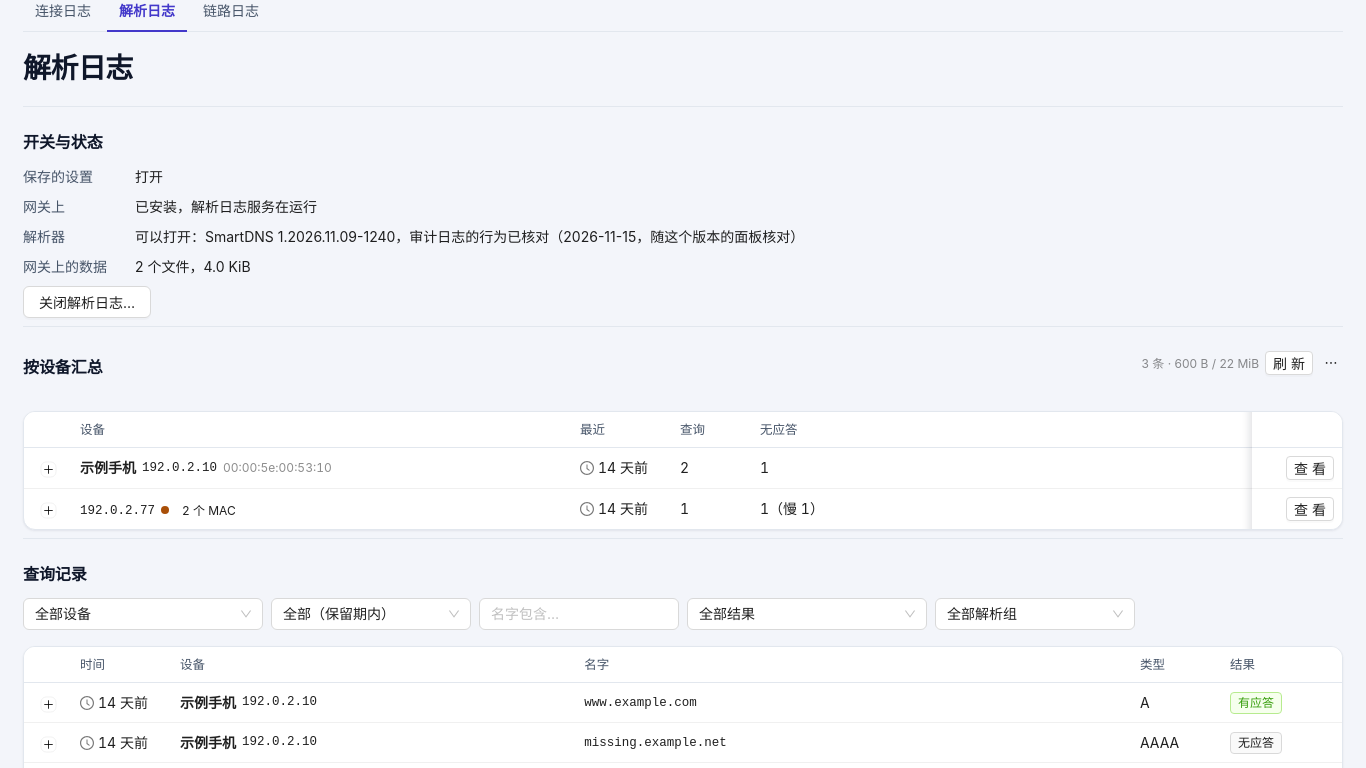
it: DNS query log page › disabling says that the records are deleted after the install succeeded, and are kept until then
Click the button "关闭解析日志…".
click(87, 302)  # box [23,286,151,318]
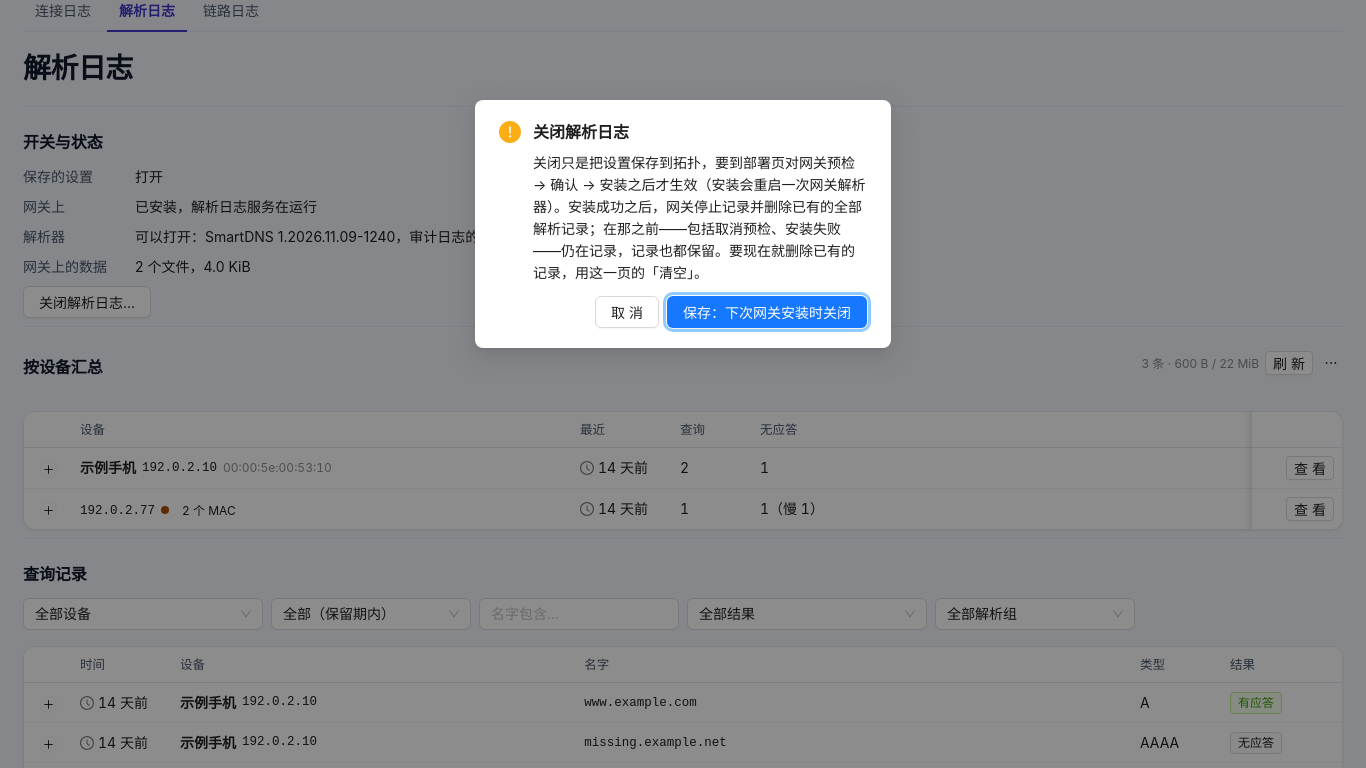
Expected: the text with test id "dns-log-disable-confirm" shows "预检 → 确认 → 安装之后才生效", [533,154,866,281]
Expected: the text with test id "dns-log-disable-confirm" shows "安装成功之后，网关停止记录并删除已有的全部解析记录", [533,154,866,281]
Expected: the text with test id "dns-log-disable-confirm" shows "取消预检、安装失败——仍在记录，记录也都保留", [533,154,866,281]
Click the button "保存：下次网关安装时关闭".
click(767, 312)  # box [667,296,867,328]
(page scrolled)
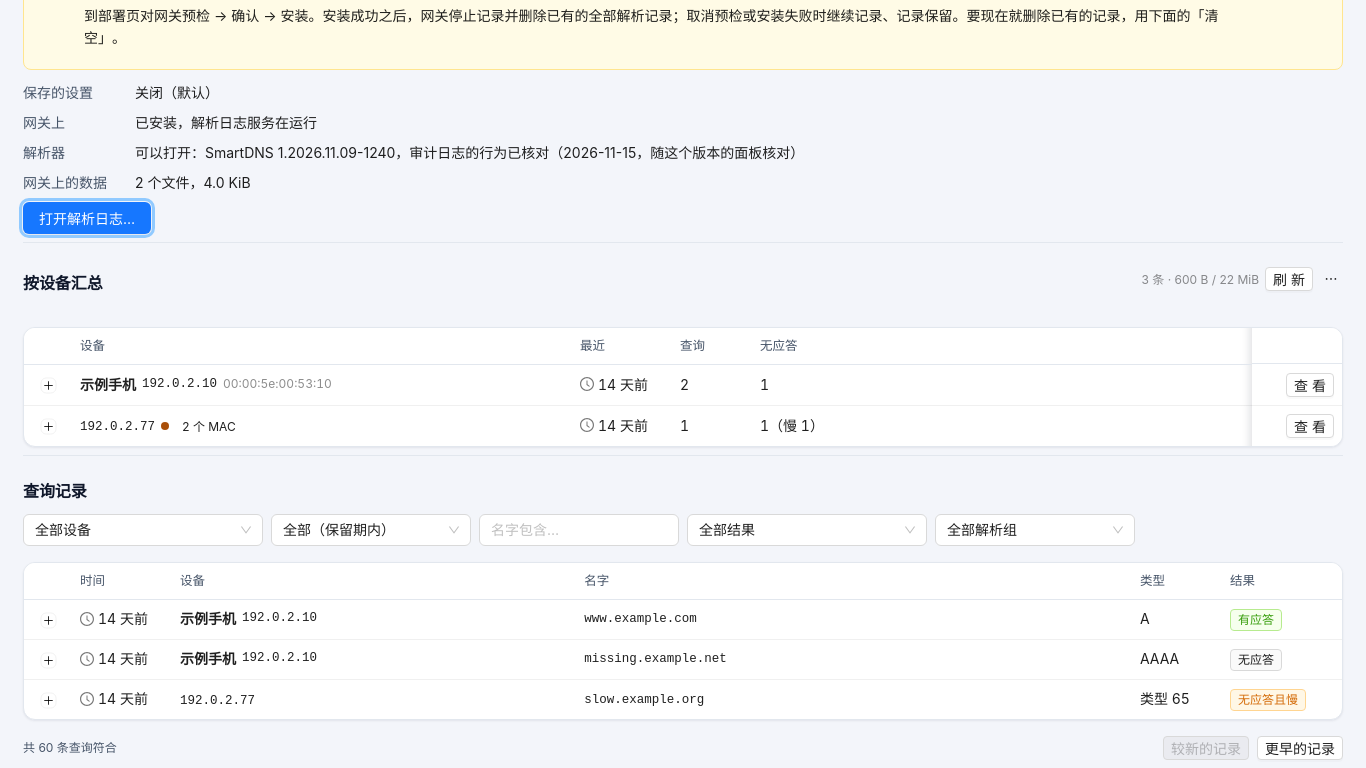
Expected: the text "www.example.com" is shown, [584,610,697,630]
Expected: the message with test id "dns-log-pending" shows "安装成功之后，网关停止记录并删除已有的全部解析记录", [84,7,1218,46]
